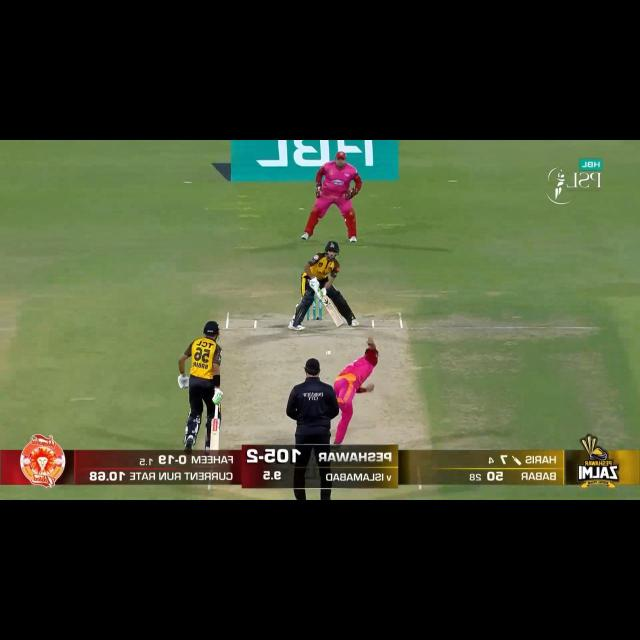bat: (321, 295, 343, 328), (207, 419, 223, 449)
toe: (335, 318, 344, 327)
